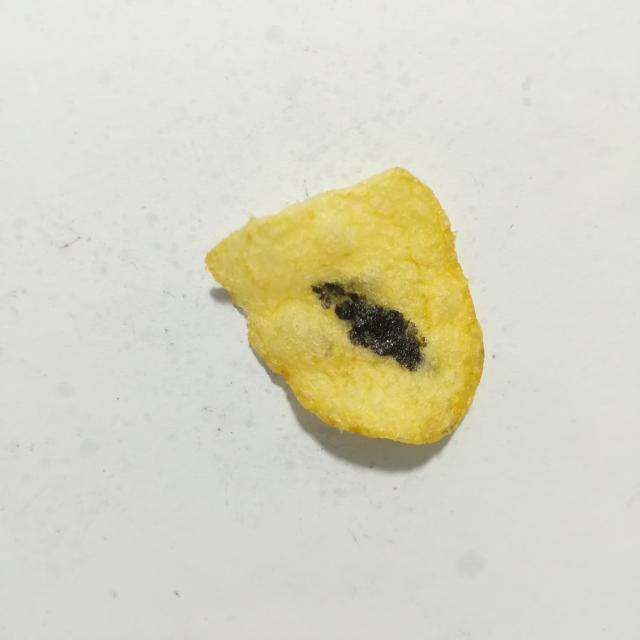chip: (206, 168, 484, 444)
damaged: (312, 283, 426, 371)
semi-damaged: (335, 269, 402, 311), (330, 296, 351, 335)
